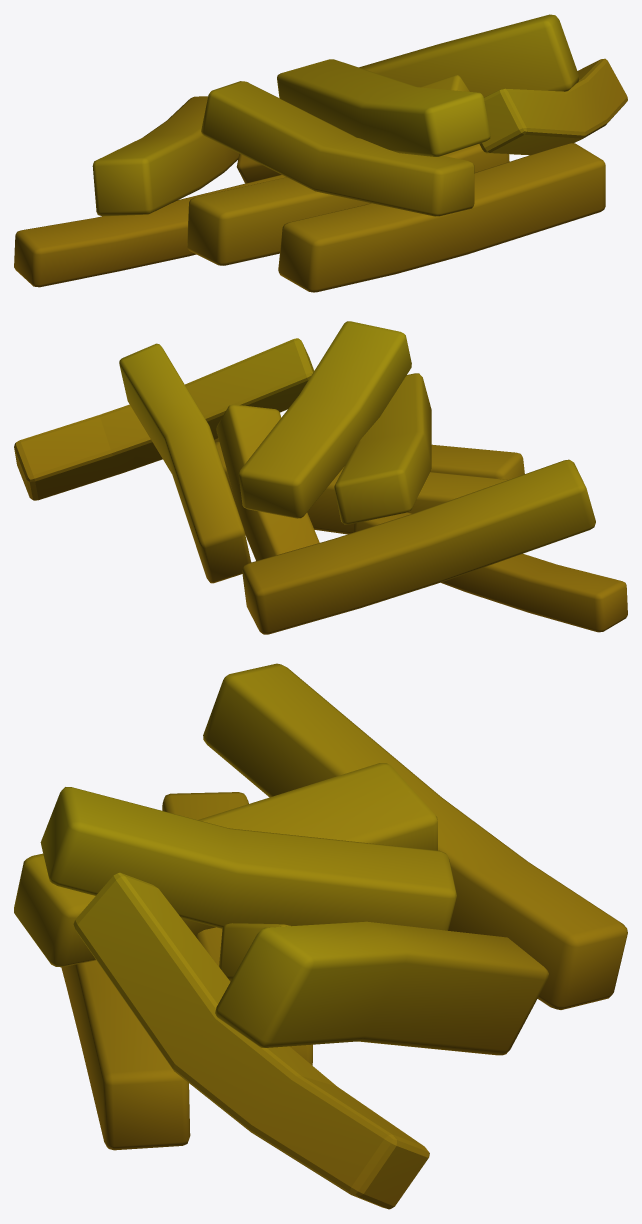
The model's file is fries 2.glb.
The picture shows the model from 3 angles, top to bottom: view 1: azimuth 30°, elevation 25°; view 2: azimuth 150°, elevation 25°; view 3: azimuth 270°, elevation 25°; orthographic projection. The views are drawn at different scales.
Visible parts, largest first — view 1: geometry_0; view 2: geometry_0; view 3: geometry_0.
Boxes of the visible parts, x1,y1,x2,y2 form: geometry_0: [14, 14, 627, 292]; geometry_0: [14, 321, 627, 634]; geometry_0: [14, 663, 627, 1209].
Bounding box in the file's own units: 0.2143 × 0.0573 × 0.1278.
Materials: 1 (1 with a texture image).
